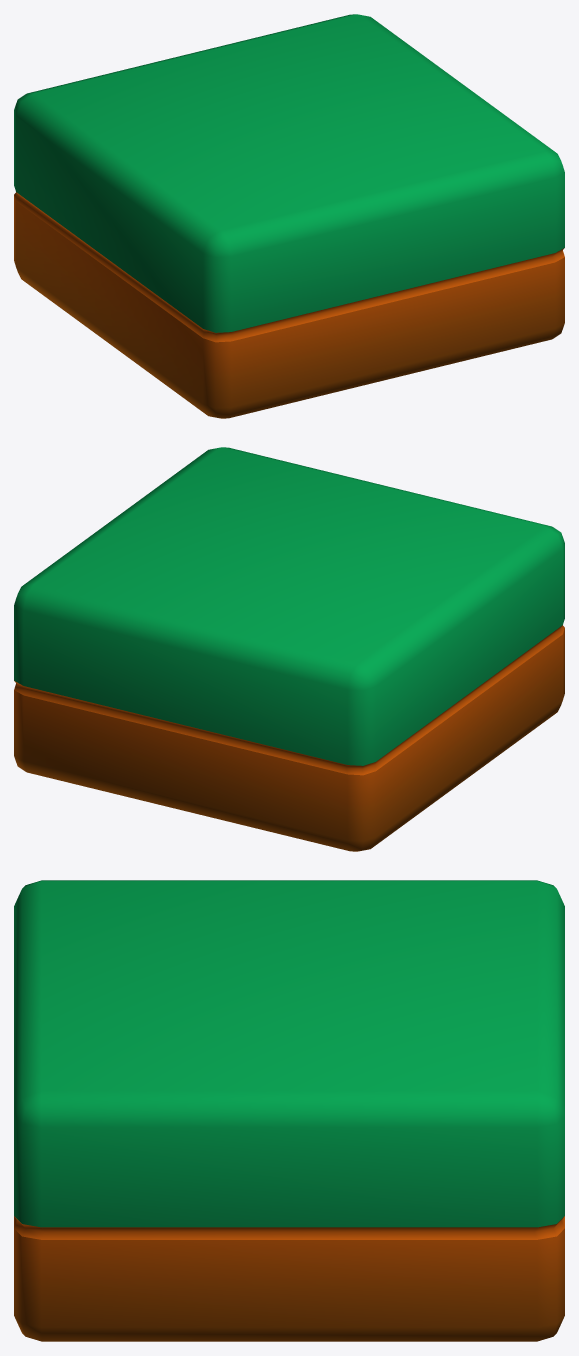
The model's file is 3D_Tile_Ground_01Av03.fbx.
3 renders of one model, top to bottom at view 1: azimuth 30°, elevation 25°; view 2: azimuth 150°, elevation 25°; view 3: azimuth 270°, elevation 25°, orthographic. The views are drawn at different scales.
Parts seen in each view (by area): view 1: 3D_Tile_Ground_01Av03; view 2: 3D_Tile_Ground_01Av03; view 3: 3D_Tile_Ground_01Av03.
Part boxes in pixels (x1,y1,x2,y2): 3D_Tile_Ground_01Av03: (14, 14, 564, 418); 3D_Tile_Ground_01Av03: (14, 447, 564, 851); 3D_Tile_Ground_01Av03: (14, 880, 564, 1341).
Size of the model in its own units: 200 by 100 by 200.
